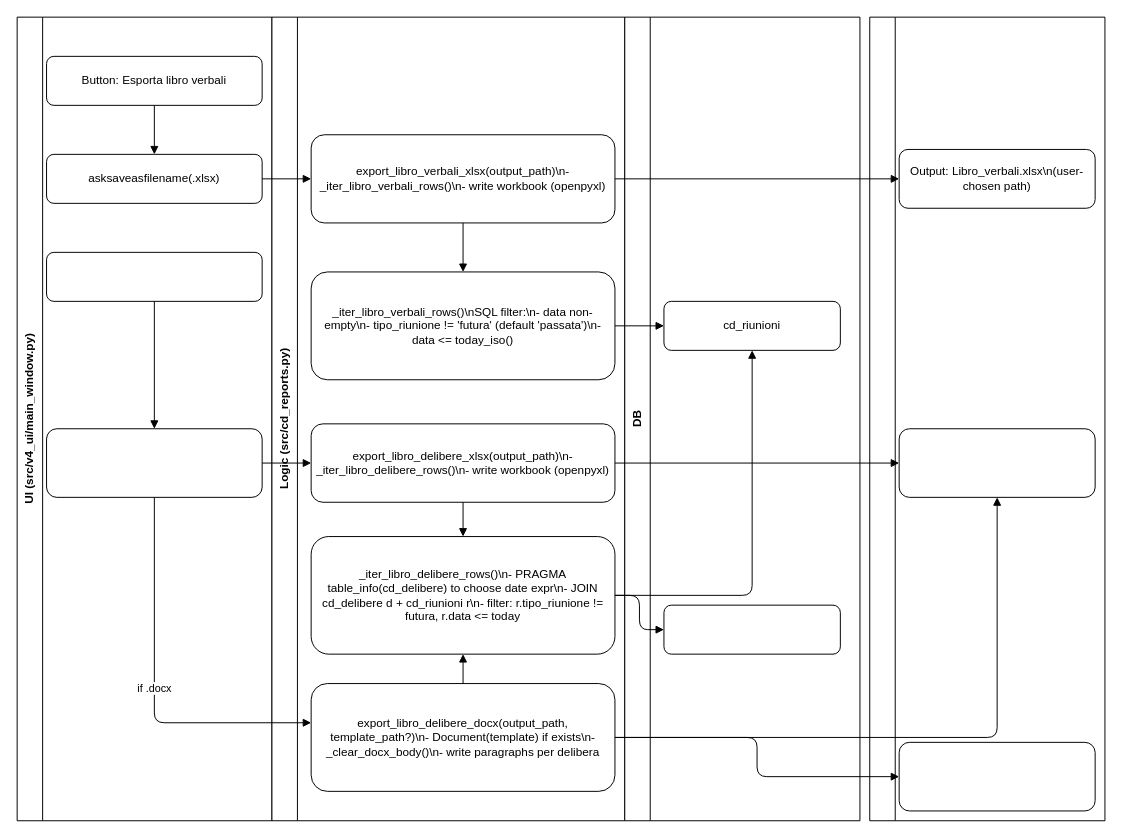
The diagram is 1122 pixels wide and 838 high, and some of its shapes have lost their labels. The box of each missing label's shape, as (x1, y1, x2, y2) in pixels:
asksaveasfilename(.docx/.xlsx)\n(if .xlsx -> Excel export): (46, 428, 262, 497)
Button: Esporta libro delibere: (46, 251, 262, 301)
cd_delibere: (663, 604, 840, 654)
FS / Files: (869, 16, 1105, 821)
Output: Libro_delibere.xlsx/.docx\n(user-chosen path): (898, 428, 1095, 497)
Template (optional)\n(currently hardcoded path in UI): (898, 741, 1095, 811)
